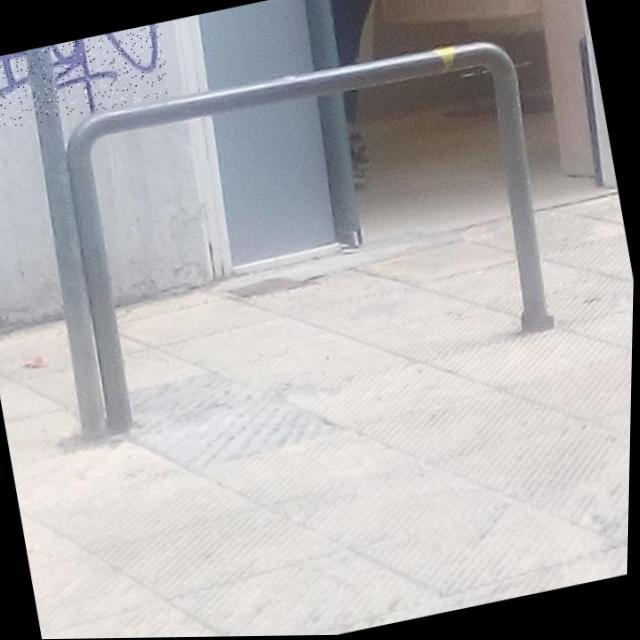-: (0, 23, 174, 139)
